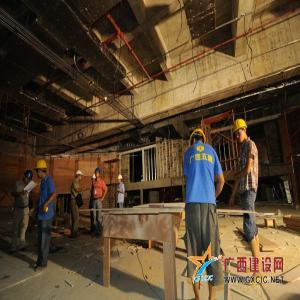blue: (24, 169, 33, 186), (95, 167, 101, 180)
white: (77, 170, 83, 182), (118, 174, 123, 186)
yellow: (233, 117, 248, 145), (191, 127, 208, 149), (36, 157, 48, 181)
